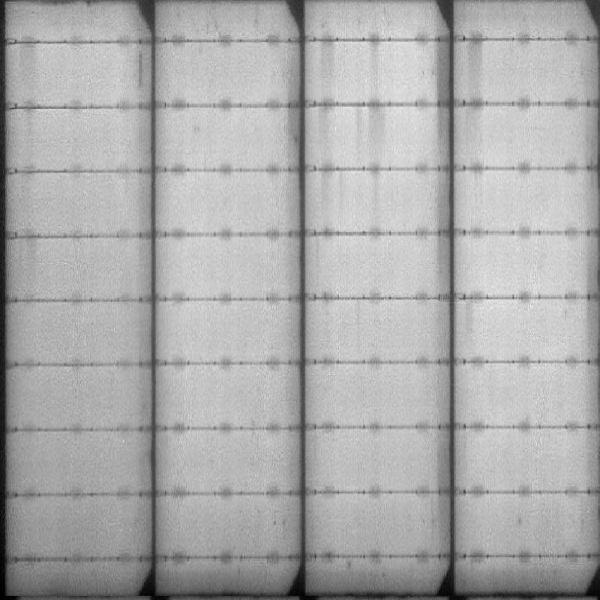scratch: (136, 50, 146, 91)
